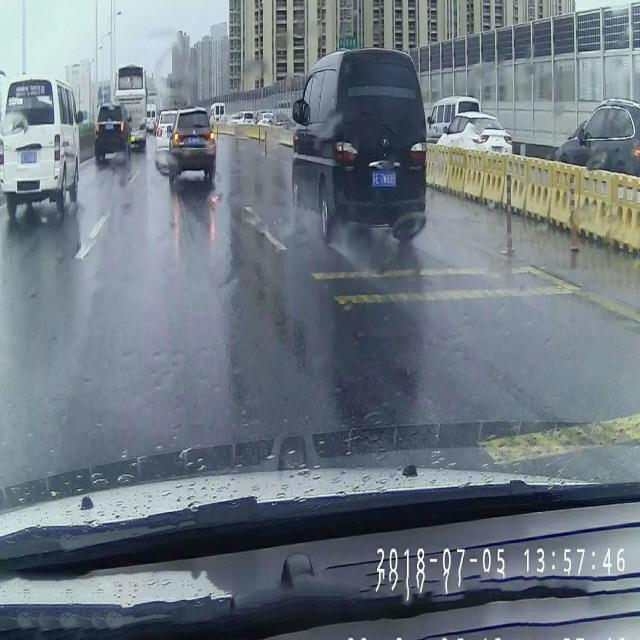car: (292, 48, 426, 236), (0, 76, 80, 206), (167, 108, 217, 184), (94, 103, 132, 159), (156, 108, 179, 160)
